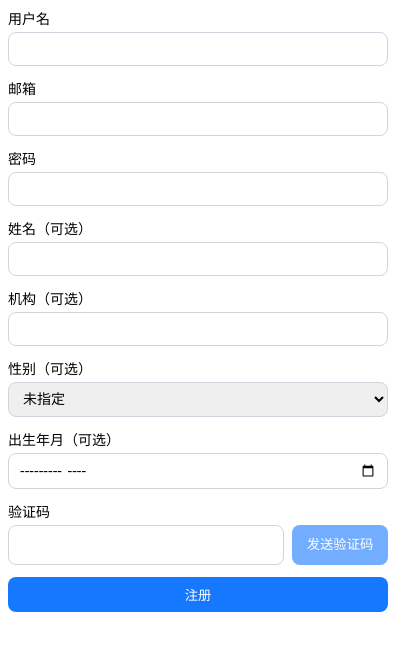
Test case: RegisterForm / ResetPasswordForm send-code UX › EMAIL_TAKEN shows copy and hint without countdown
The image size is (405, 660).
In the field labelled "邮箱": (198, 119) [8, 102, 388, 136], type "ada@example.com"
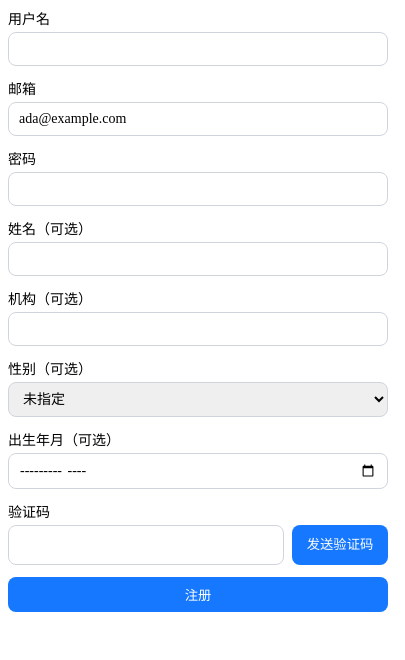
Click the button with class "ak-code-btn": (340, 545) [292, 525, 388, 565]
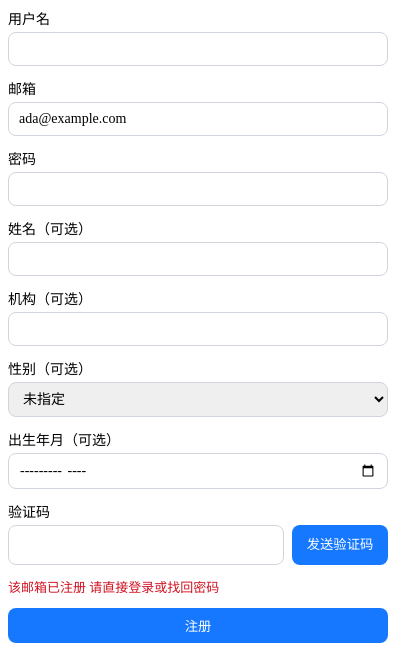
Expected: the text "该邮箱已注册" is shown, [8, 580, 219, 595]
Expected: the text "请直接登录或找回密码" is shown, [8, 580, 219, 595]
